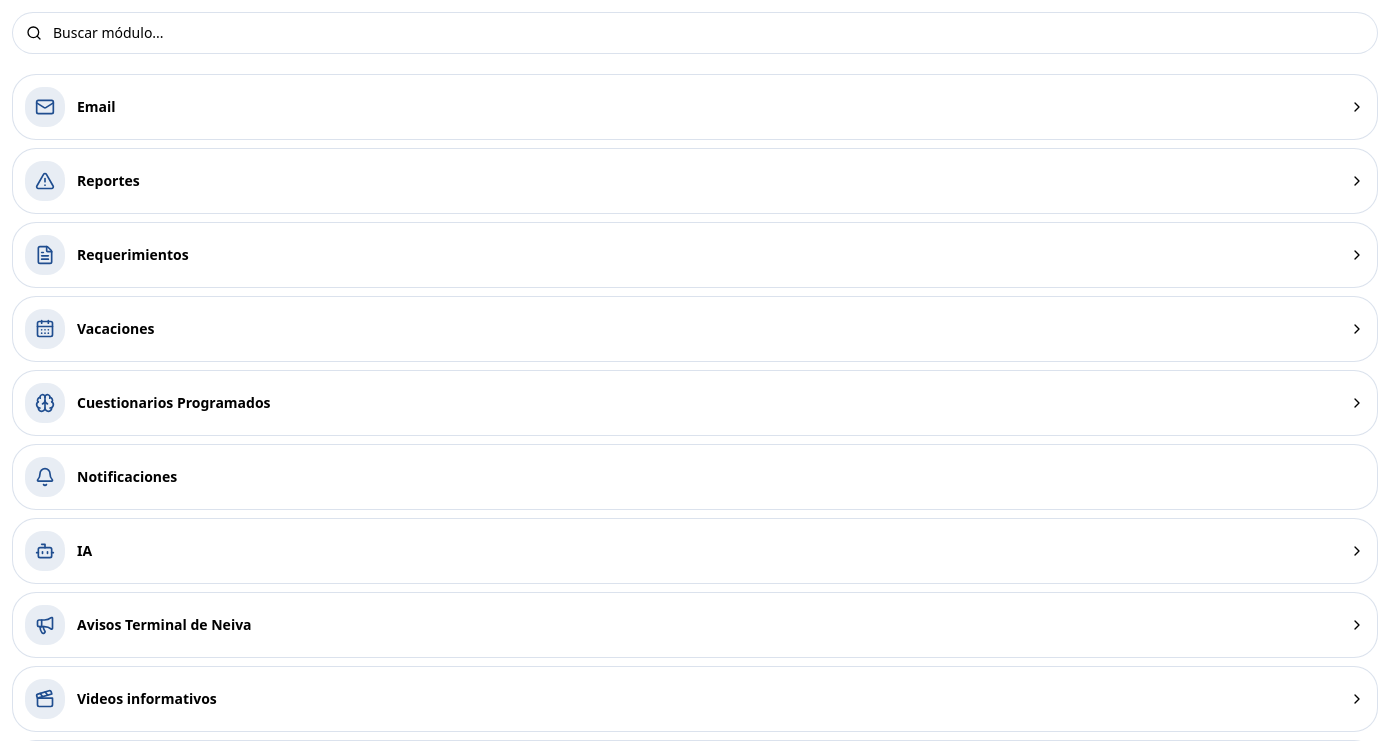
Test: MasSheetContent › buscar muestra el resultado ya expandido, sin tap extra
The width and height of the screenshot is (1390, 741).
Type "bandeja de entrada" into the search field with placeholder "Buscar módulo..." at point(695, 33), box [12,12,1378,54]
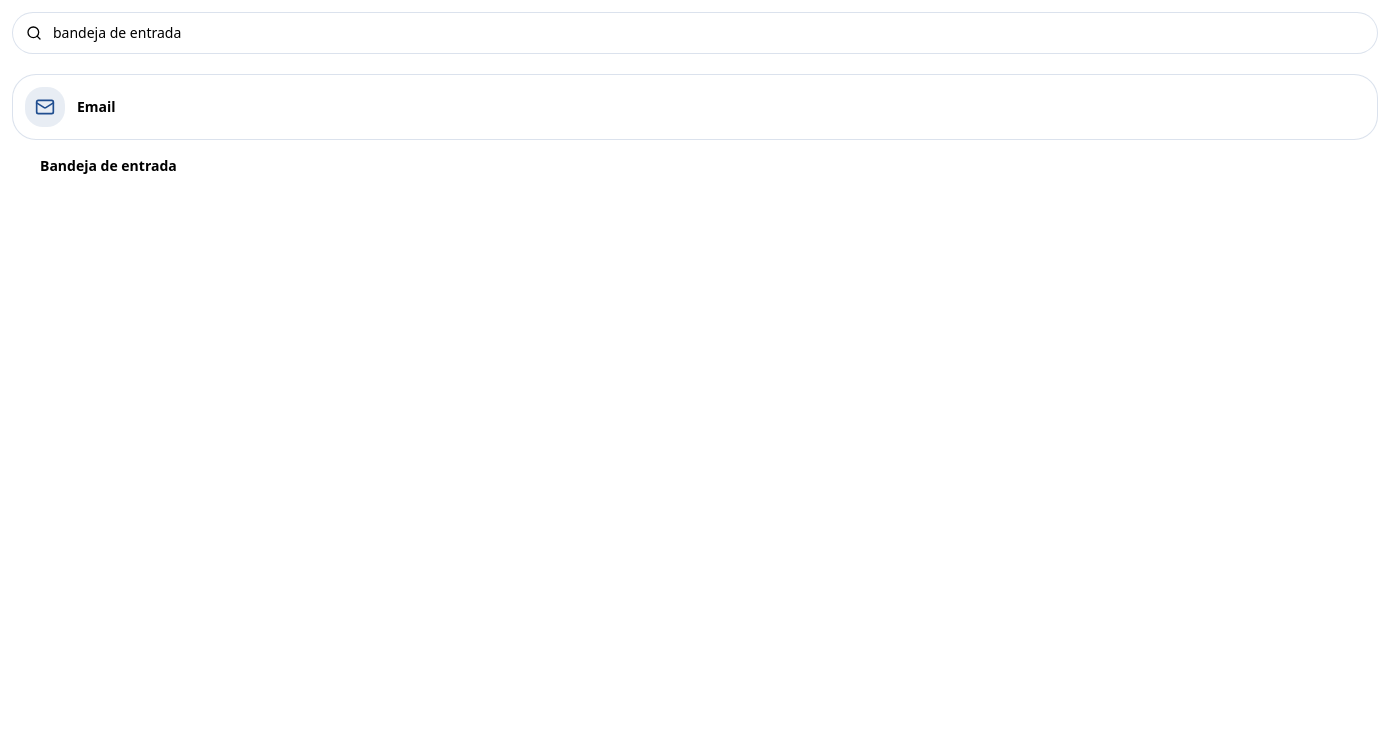
Result: the text "Bandeja de entrada" is shown at [40,156,177,175]
Result: the button "Requerimientos" is gone
